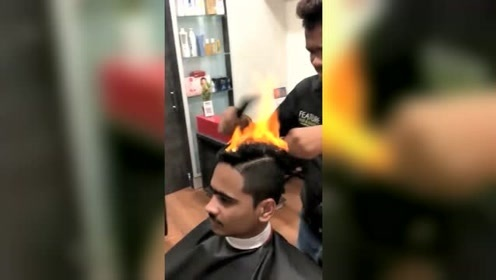fire: (222, 75, 290, 152)
